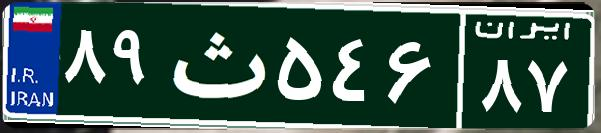4: (330, 28, 385, 110)
5: (273, 28, 330, 110)
6: (385, 28, 445, 110)
7: (525, 38, 570, 115)
8: (57, 26, 110, 107), (475, 38, 525, 113)
9: (110, 28, 158, 105)
ث: (158, 15, 273, 115)
